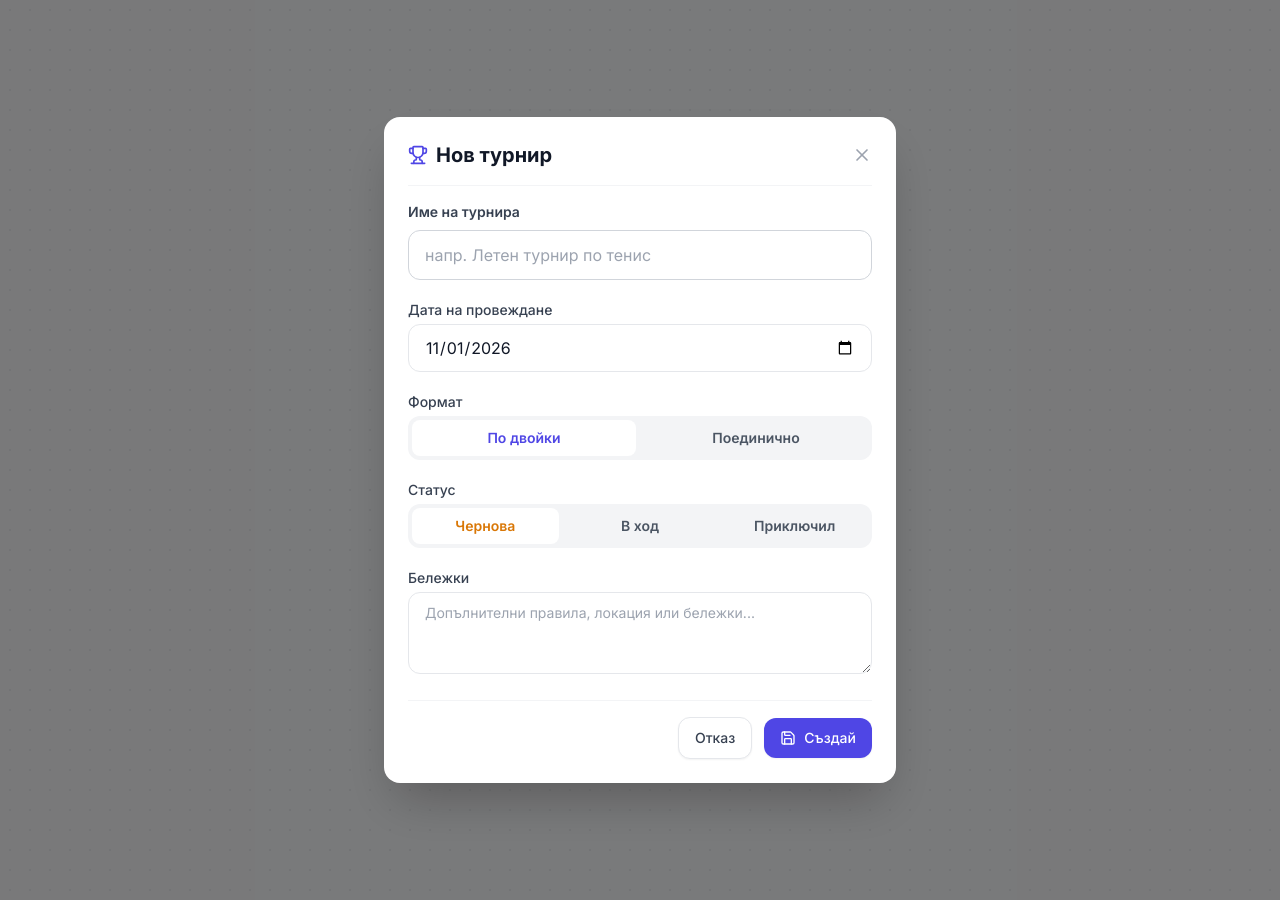
Scenario: TournamentModal › shows validation error when past date is submitted in create mode and clears on date change
Type "Турнир в миналото" into the field labelled "Име на турнира" at (640, 255), box [408,230,872,280]
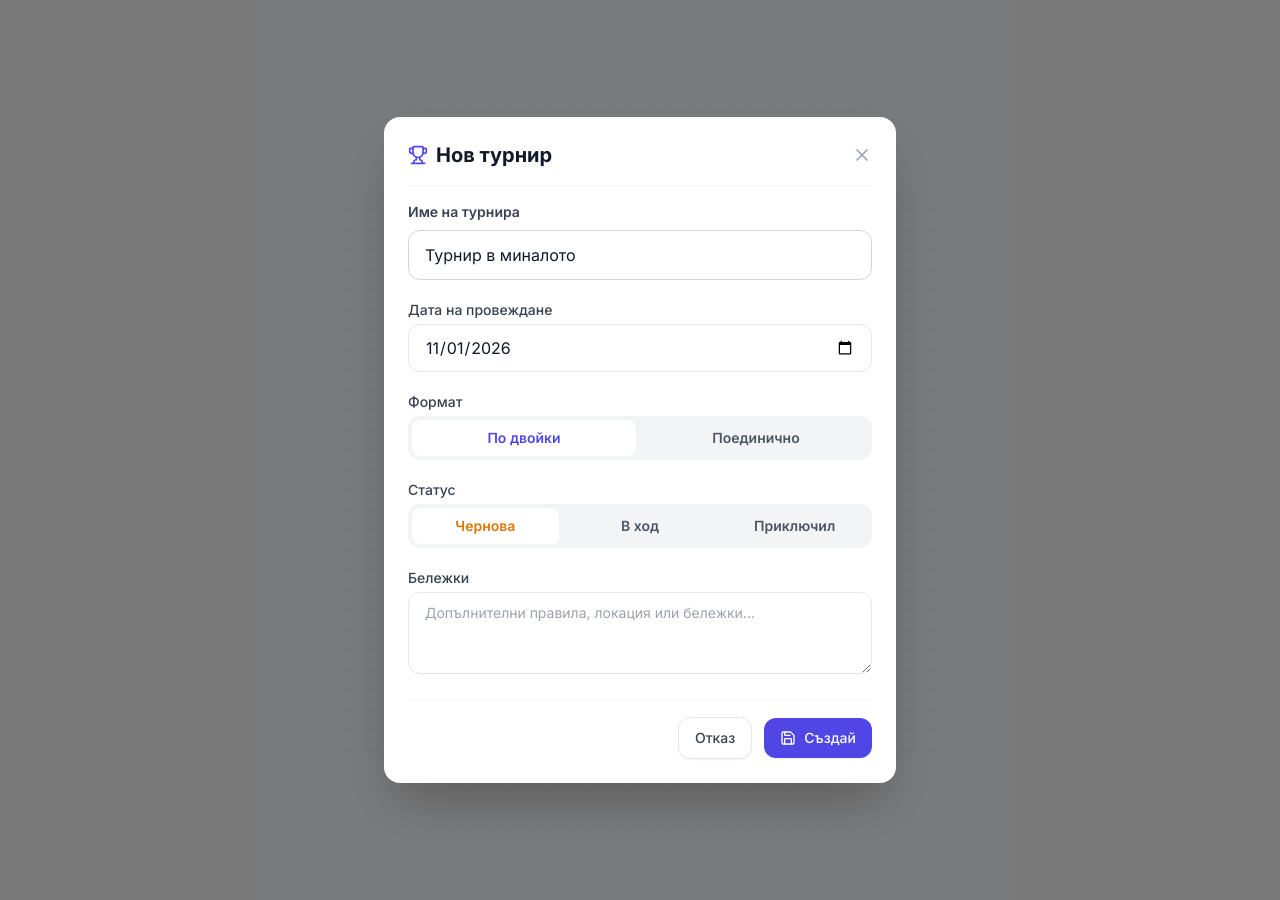
Type "2020-01-01" into the date field labelled "Дата на провеждане" at (640, 348), box [408,324,872,372]
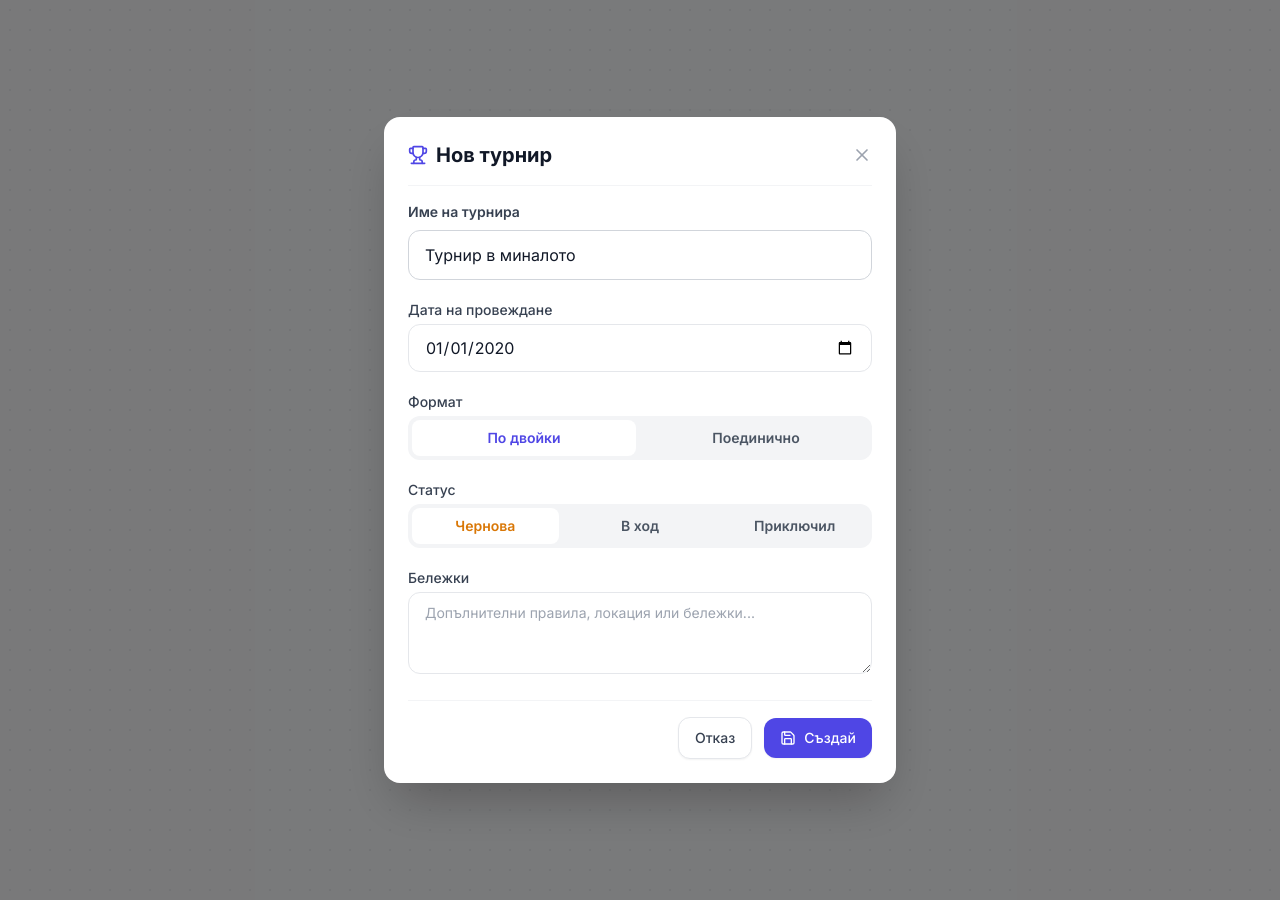
Click the button "Създай" at (818, 738), box [764,718,872,758]
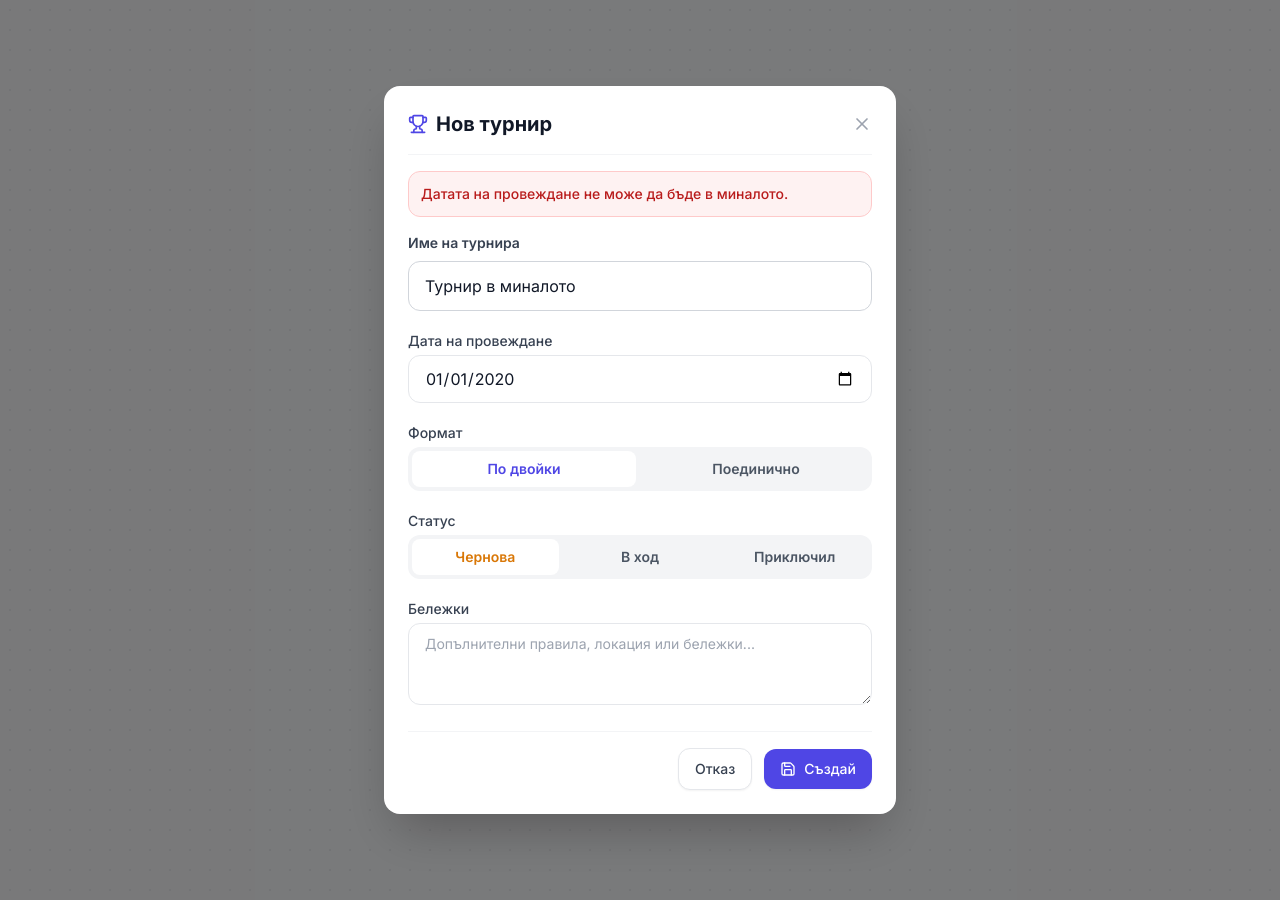
Expected: the message reads "Датата на провеждане не може да бъде в миналото.", [421,185,788,202]
// Verify changing date clears validation error
Type "2099-01-01" into the date field labelled "Дата на провеждане" at (640, 379), box [408,355,872,403]
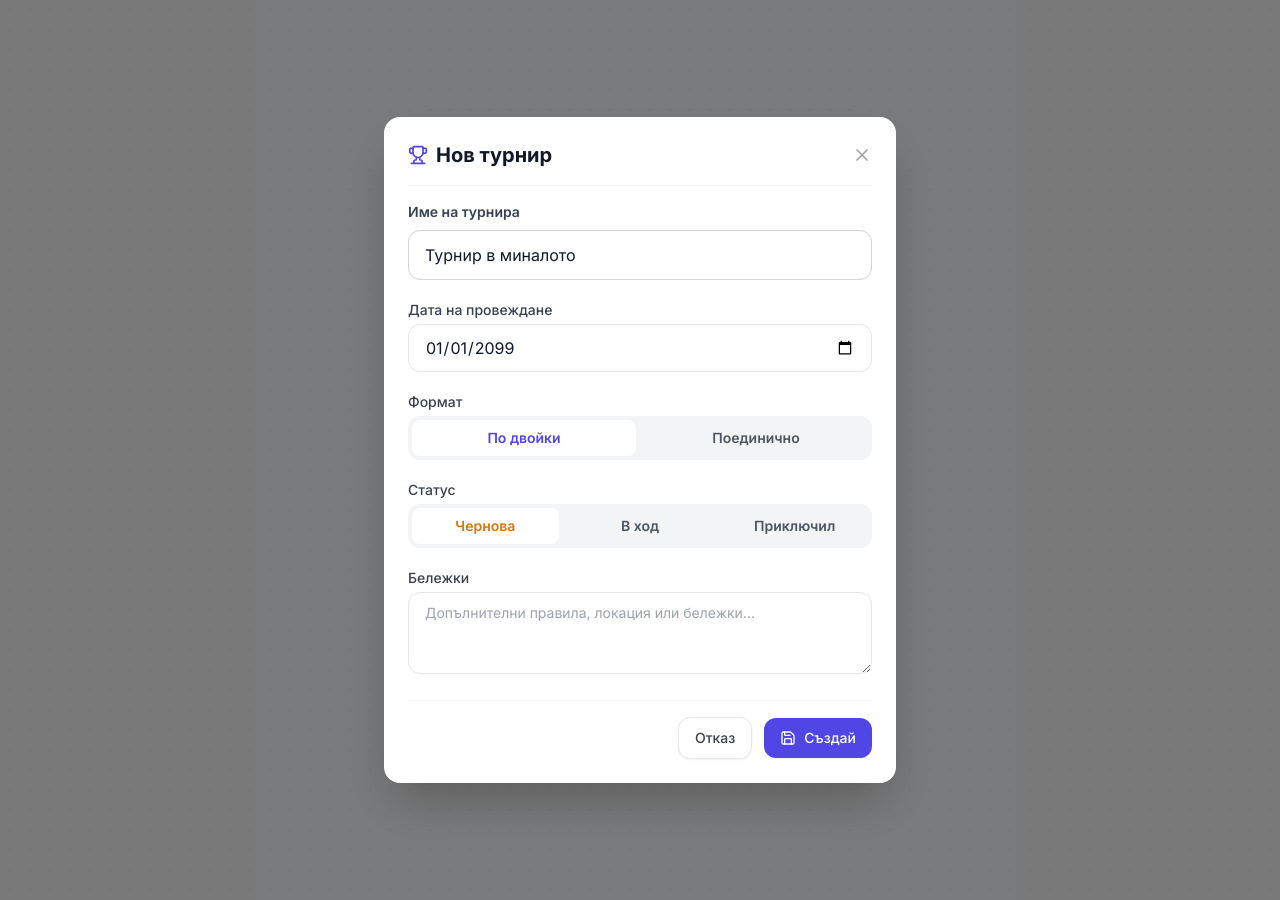
Expected: the message "Датата на провеждане не може да бъде в миналото." is gone
